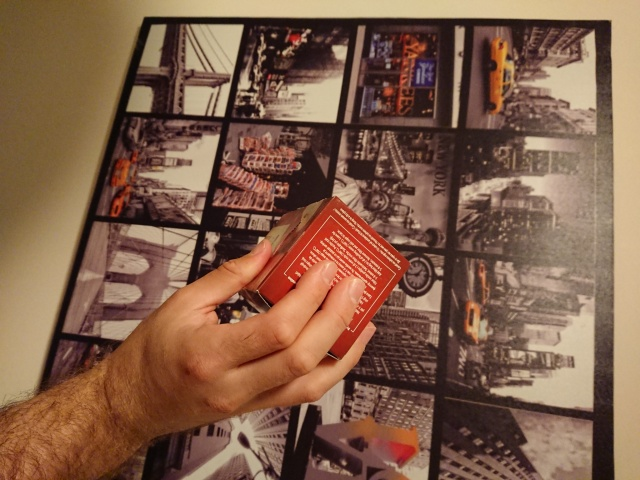Franck Apple Cinnamon Tea 60g: (233, 193, 414, 363)
